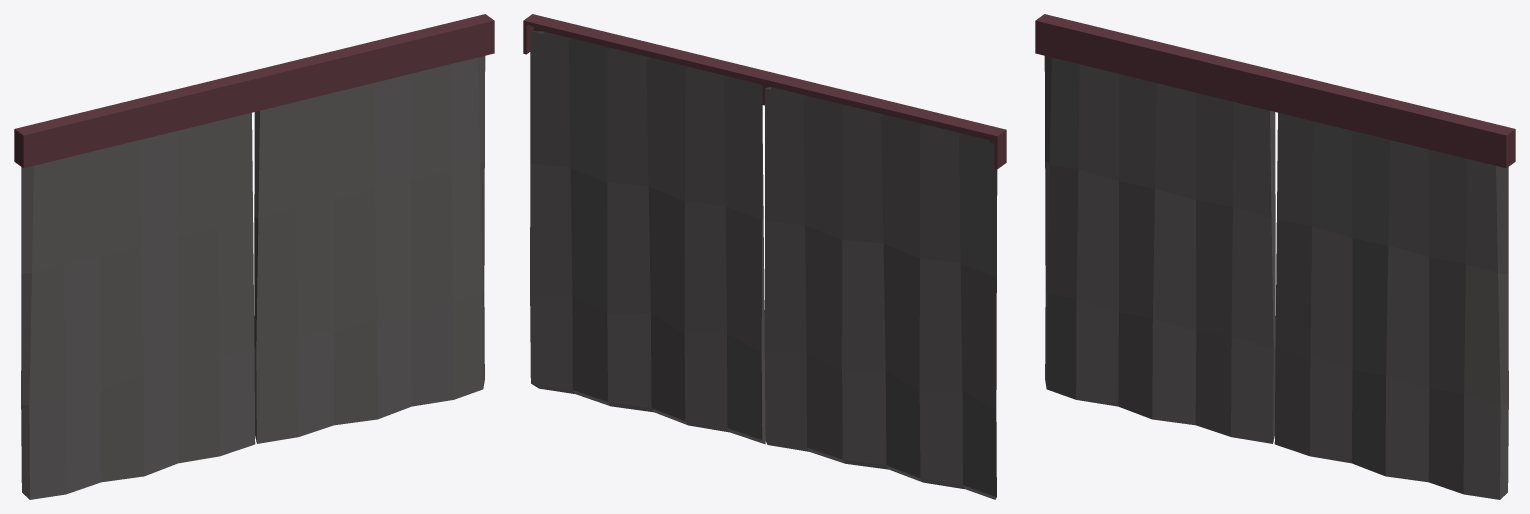
File: curtains-modern.fbx
The picture shows the model from 3 angles, left to right: view 1: azimuth 30°, elevation 25°; view 2: azimuth 150°, elevation 25°; view 3: azimuth 330°, elevation 25°; orthographic projection.
Parts seen in each view (by area): view 1: curtains-modern_L, curtains-modern_R, curtains-modern-top; view 2: curtains-modern_R, curtains-modern_L, curtains-modern-top; view 3: curtains-modern_R, curtains-modern_L, curtains-modern-top.
Part boxes in pixels (box(x1,y1,x2,y2)): curtains-modern_L: box(21, 112, 255, 499); curtains-modern_R: box(254, 56, 485, 443); curtains-modern-top: box(14, 14, 494, 168); curtains-modern_R: box(530, 31, 765, 444); curtains-modern_L: box(764, 87, 997, 499); curtains-modern-top: box(523, 14, 1006, 169); curtains-modern_R: box(1274, 112, 1508, 499); curtains-modern_L: box(1044, 56, 1275, 443); curtains-modern-top: box(1035, 14, 1515, 168).
Size of the model in its own units: 3 by 2.24 by 0.1233.
